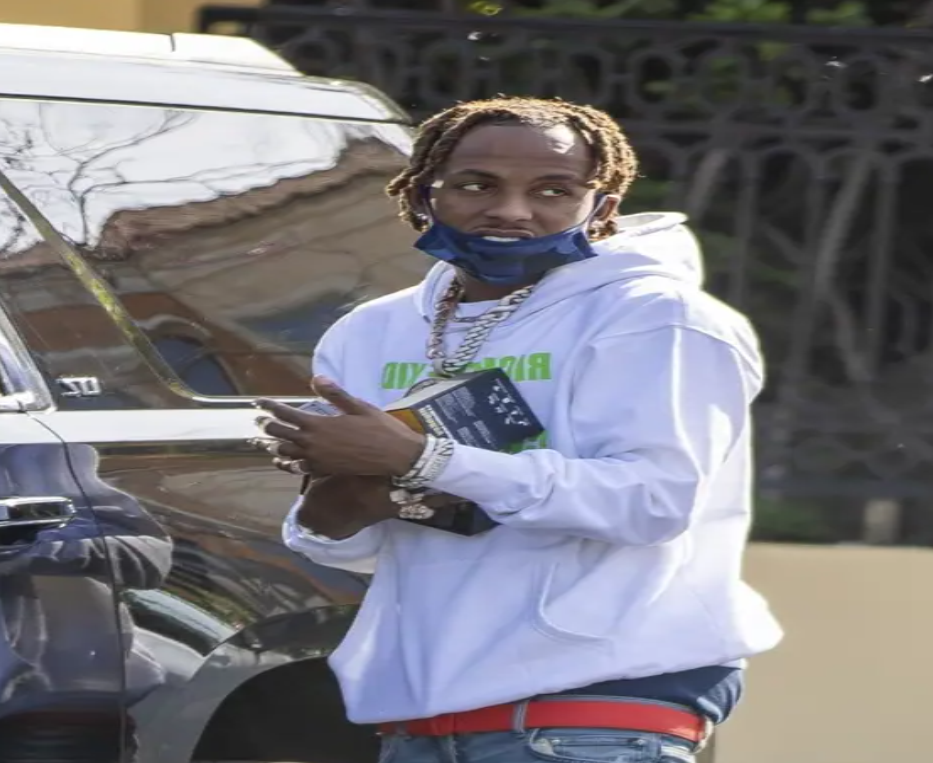mask_weared_incorrect: (389, 97, 635, 288)
